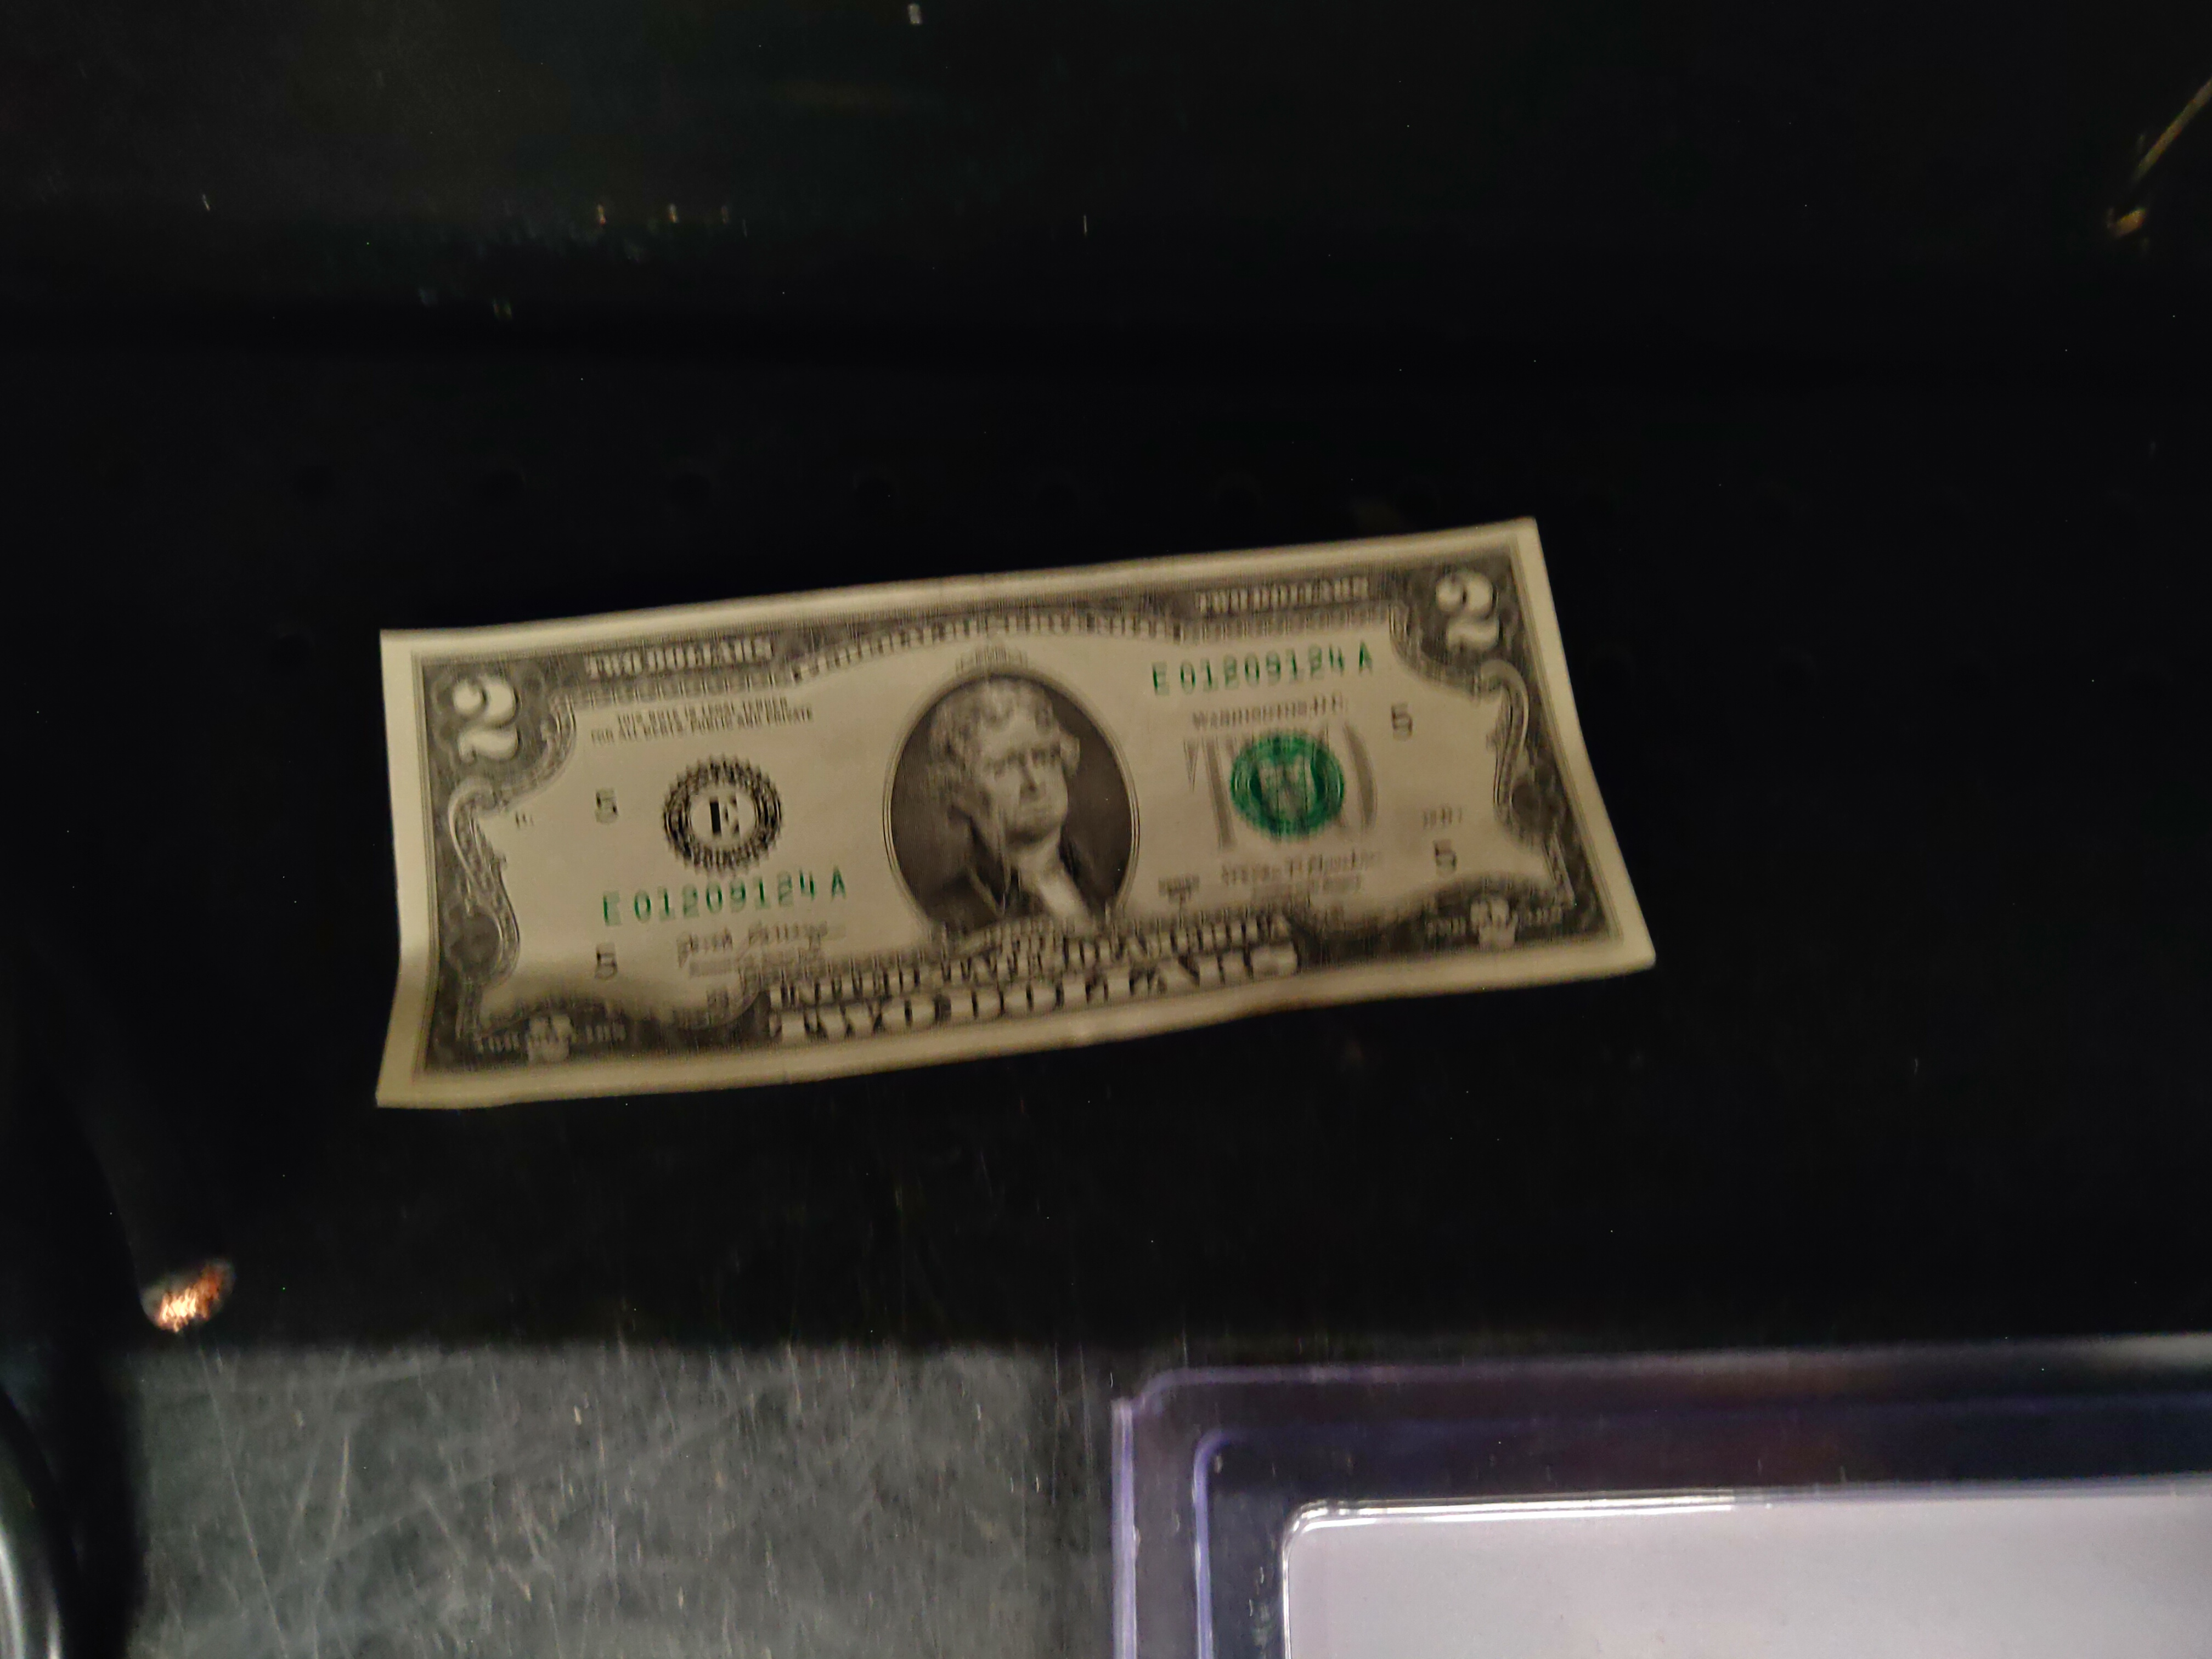TwoBill: (373, 514, 1665, 1110)
